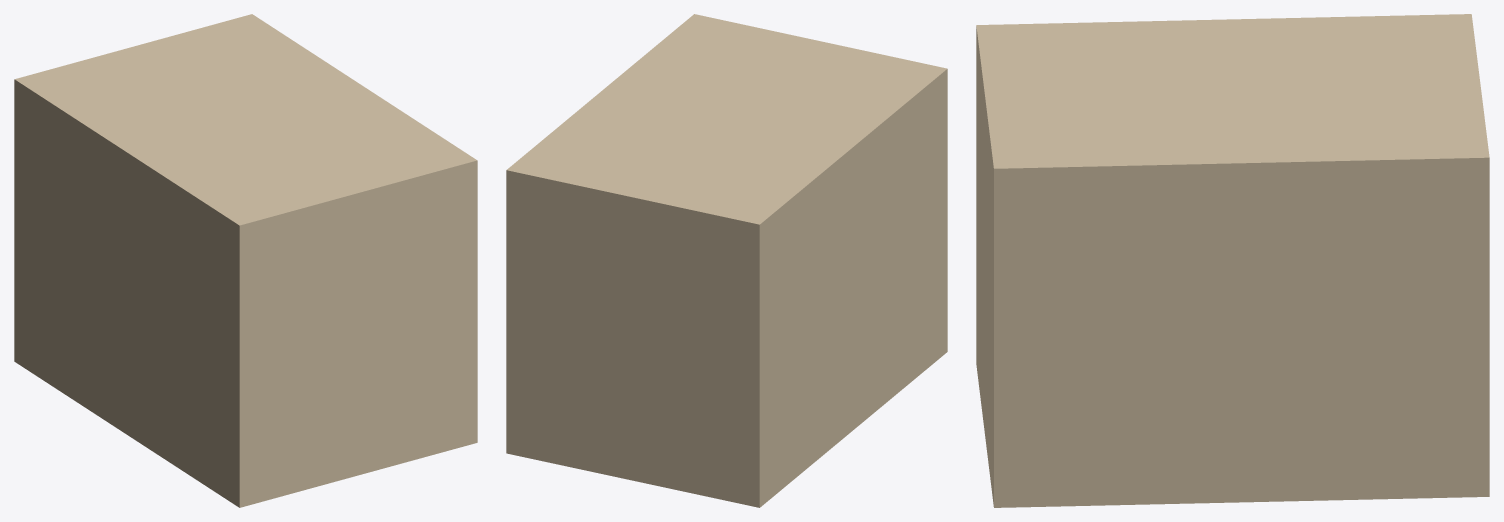
The picture shows the model from 3 angles, left to right: view 1: azimuth 30°, elevation 25°; view 2: azimuth 150°, elevation 25°; view 3: azimuth 270°, elevation 25°; orthographic projection. The views are drawn at different scales.
Parts seen in each view (by area): view 1: SM_c4a7224a1546abb0aa14; view 2: SM_c4a7224a1546abb0aa14; view 3: SM_c4a7224a1546abb0aa14.
Boxes of the visible parts, x1=… form: SM_c4a7224a1546abb0aa14: x1=14, y1=14, x2=477, y2=507; SM_c4a7224a1546abb0aa14: x1=506, y1=14, x2=947, y2=507; SM_c4a7224a1546abb0aa14: x1=976, y1=14, x2=1489, y2=507.
Size of the model in its own units: 11.75 by 16.46 by 12.
